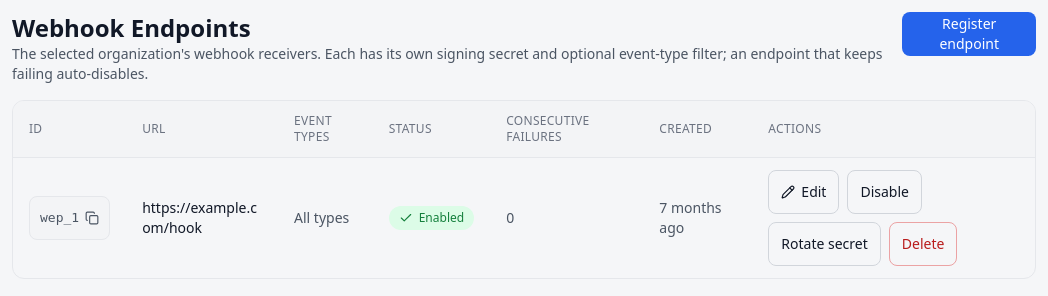
Test: WebhookEndpointsPage › disabling an ENABLED endpoint flips its status to Disabled
Expected: the text "Enabled" is shown, [389,206,474,230]
Click the button "Disable" at (885, 192), box [847,170,922,214]
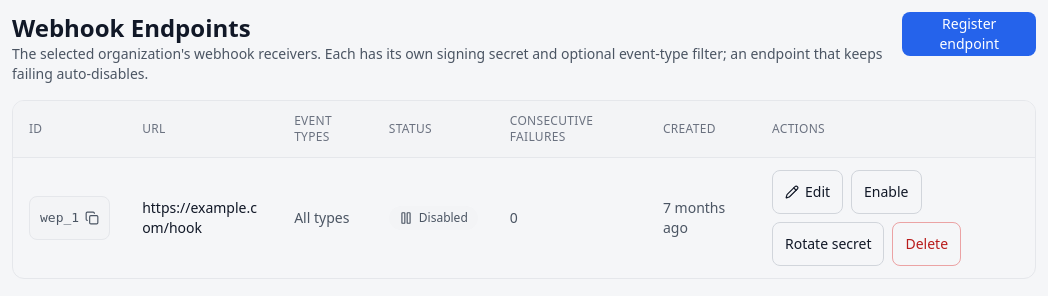
Expected: the text "Disabled" is shown, [389,206,478,230]
